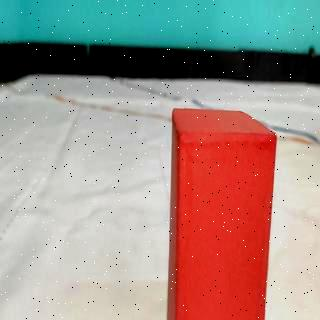redbox: (166, 107, 276, 320)
